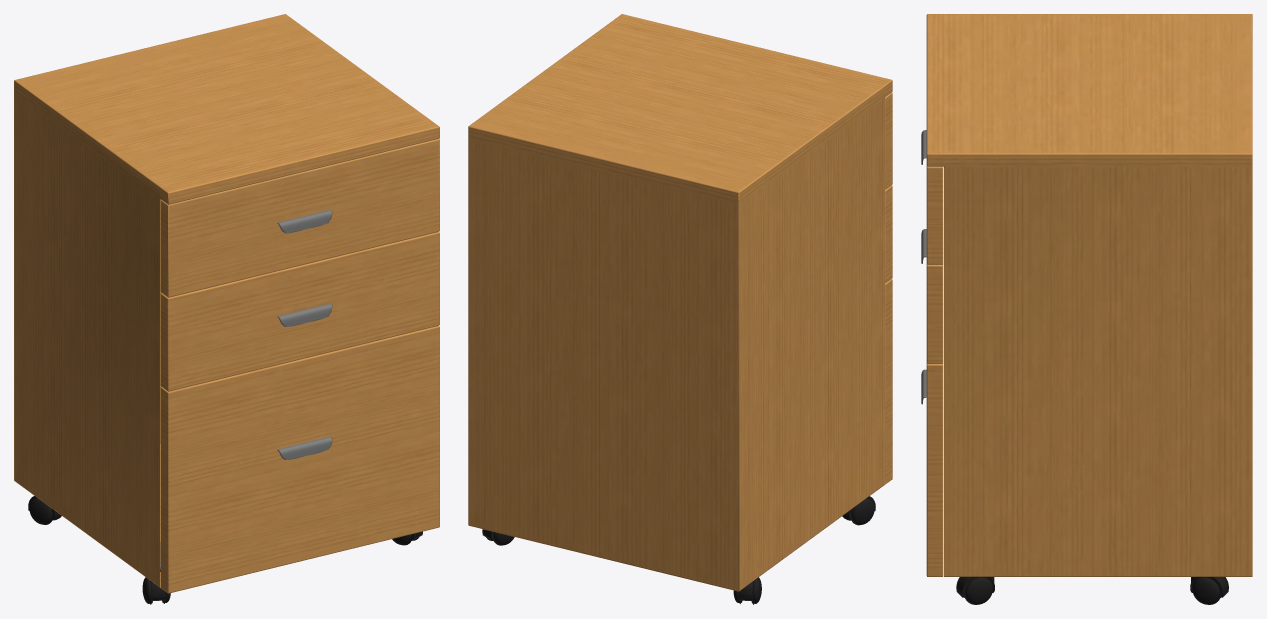
File: f89dff31-ae54-4564-ac15-8fe627785567.glb
3 views of the same model, side by side, from view 1: azimuth 30°, elevation 25°; view 2: azimuth 150°, elevation 25°; view 3: azimuth 270°, elevation 25° (orthographic). The views are drawn at different scales.
Parts seen in each view (by area): view 1: File Mobile Wood Finish; view 2: File Mobile Wood Finish; view 3: File Mobile Wood Finish.
Part boxes in pixels (x1,y1,x2,y2): File Mobile Wood Finish: [14, 14, 439, 604]; File Mobile Wood Finish: [468, 14, 892, 604]; File Mobile Wood Finish: [921, 14, 1252, 604].
Bounding box in the file's own units: 0.4696 × 0.7024 × 0.4645.
2 materials, 2 textured.
